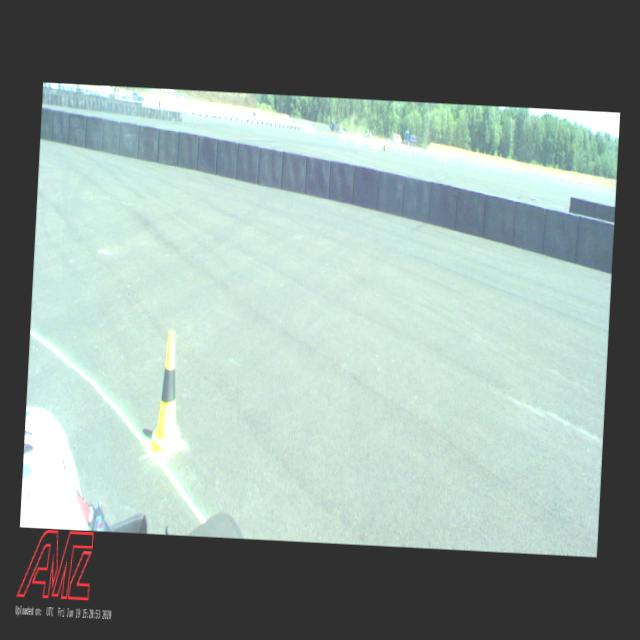blue_cone: (364, 142, 365, 148)
yellow_cone: (147, 330, 190, 462), (414, 152, 416, 158)
